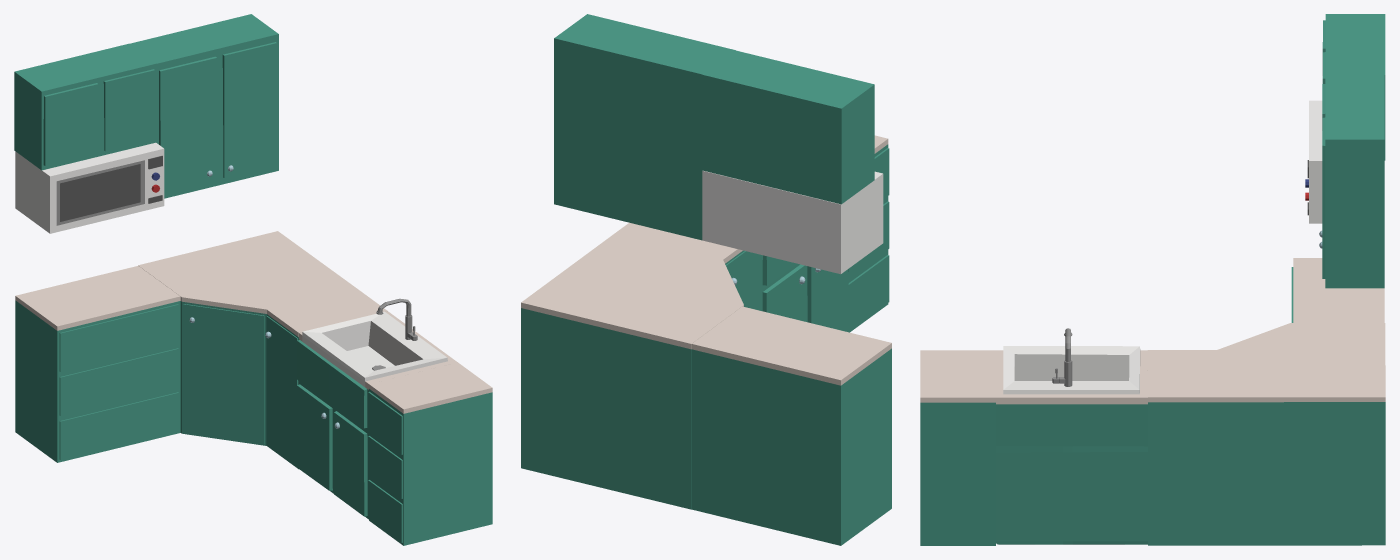
File: Kitchen_set_5.fbx
3 renders of one model, left to right at view 1: azimuth 30°, elevation 25°; view 2: azimuth 150°, elevation 25°; view 3: azimuth 270°, elevation 25°, orthographic. The views are drawn at different scales.
Visible parts, largest first — view 1: Kitchen_set_5; view 2: Kitchen_set_5; view 3: Kitchen_set_5.
Part boxes in pixels (<box>): Kitchen_set_5: <box>14,14,492,545</box>; Kitchen_set_5: <box>521,14,891,545</box>; Kitchen_set_5: <box>920,14,1385,545</box>.
Bounding box in the file's own units: 262 × 368 × 342.
